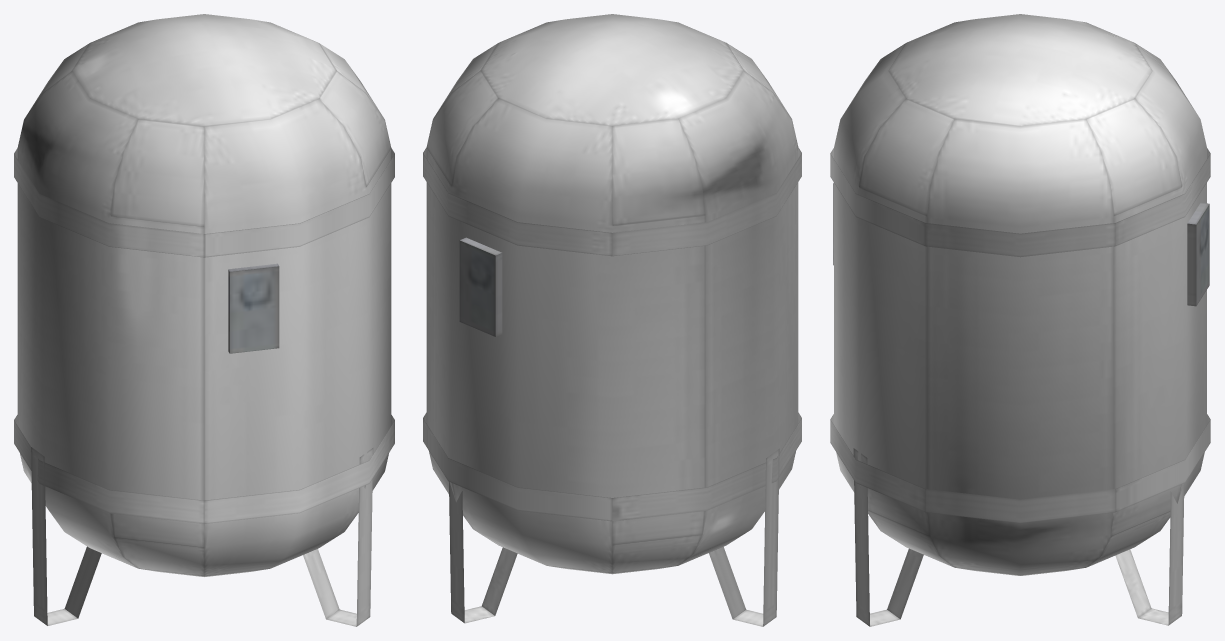
Rendered from 稳压罐.obj.
3 renders of one model, left to right at view 1: azimuth 30°, elevation 25°; view 2: azimuth 150°, elevation 25°; view 3: azimuth 270°, elevation 25°, orthographic.
Visible parts, largest first — view 1: Capsule001; view 2: Capsule001; view 3: Capsule001.
Boxes of the visible parts, left/top/right/bottom form: Capsule001: left=14, top=14, right=394, bottom=626; Capsule001: left=423, top=14, right=801, bottom=626; Capsule001: left=830, top=14, right=1210, bottom=626.
Bounding box in the file's own units: 109 × 172 × 109.
